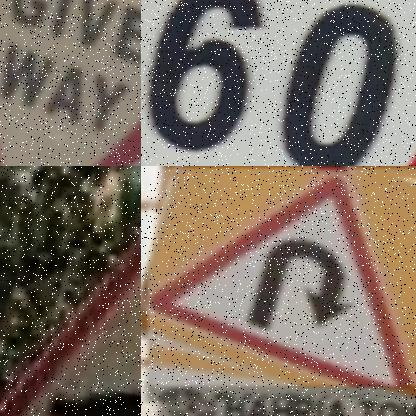Give Way: (0, 0, 141, 166)
Speed Breaker Ahead: (0, 249, 141, 416)
Speed Limit (60 kmph): (141, 0, 416, 166)
U-Turn: (141, 166, 416, 398), (149, 169, 416, 386)
